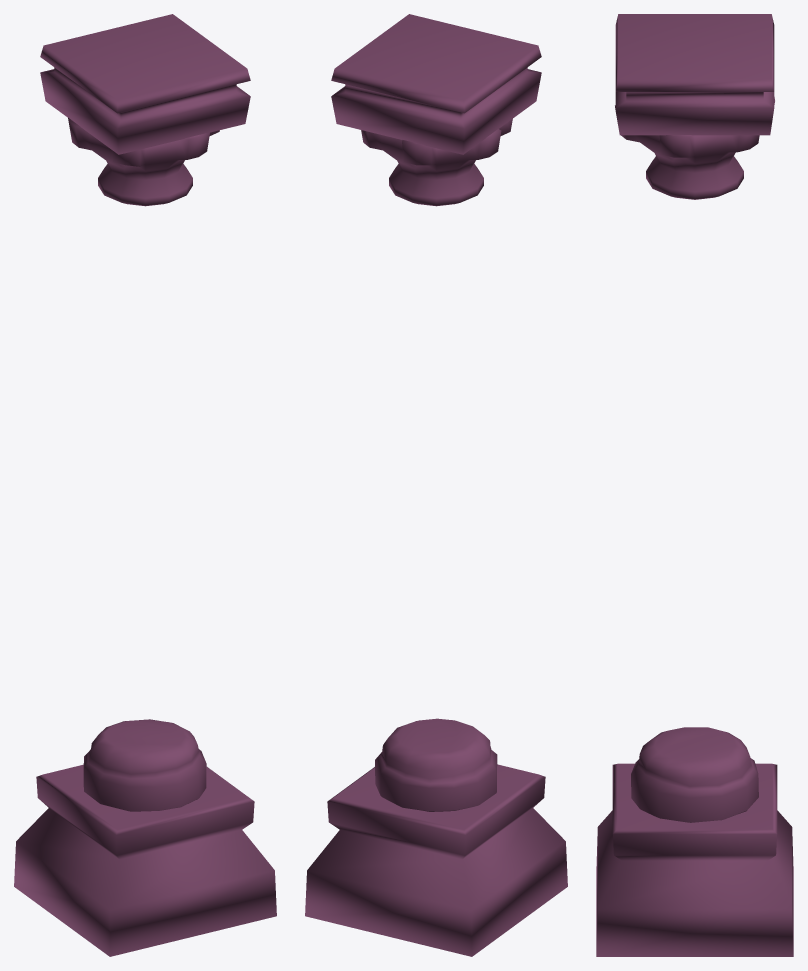
Rendered from Pillar_01_Base_Lod0.fbx.
3 renders of one model, left to right at view 1: azimuth 30°, elevation 25°; view 2: azimuth 150°, elevation 25°; view 3: azimuth 270°, elevation 25°, orthographic. The views are drawn at different scales.
Parts seen in each view (by area): view 1: Pillar_01_Base_Lod0; view 2: Pillar_01_Base_Lod0; view 3: Pillar_01_Base_Lod0.
Boxes of the visible parts, x1=… form: Pillar_01_Base_Lod0: x1=14, y1=14, x2=276, y2=956; Pillar_01_Base_Lod0: x1=305, y1=14, x2=567, y2=956; Pillar_01_Base_Lod0: x1=596, y1=14, x2=793, y2=956.
Bounding box in the file's own units: 60.95 × 294 × 60.67.
